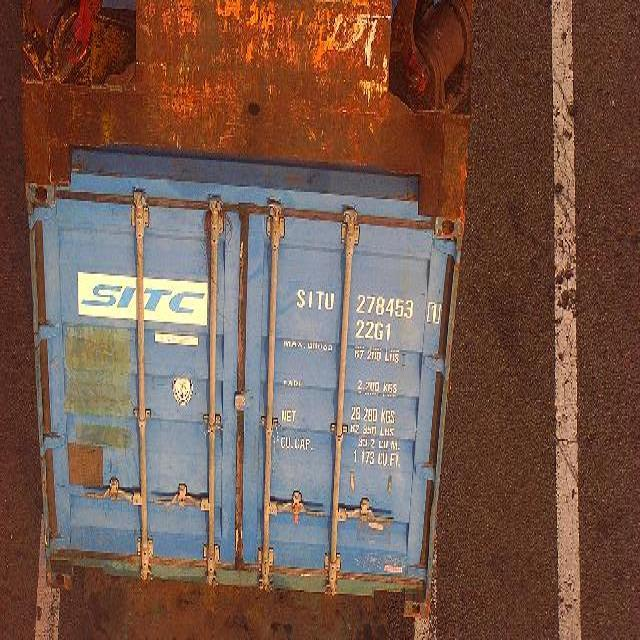ISO: (358, 323, 393, 342)
container_number: (294, 286, 441, 329)
